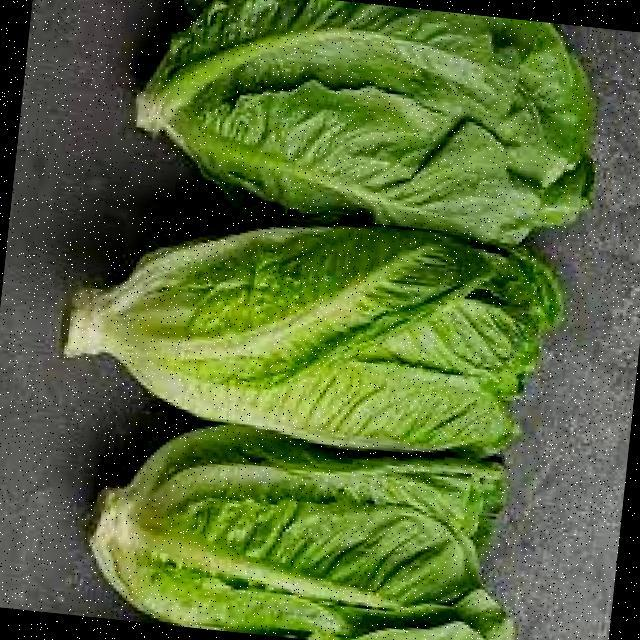healthy: (56, 207, 550, 462), (128, 0, 594, 215), (79, 429, 508, 640)
